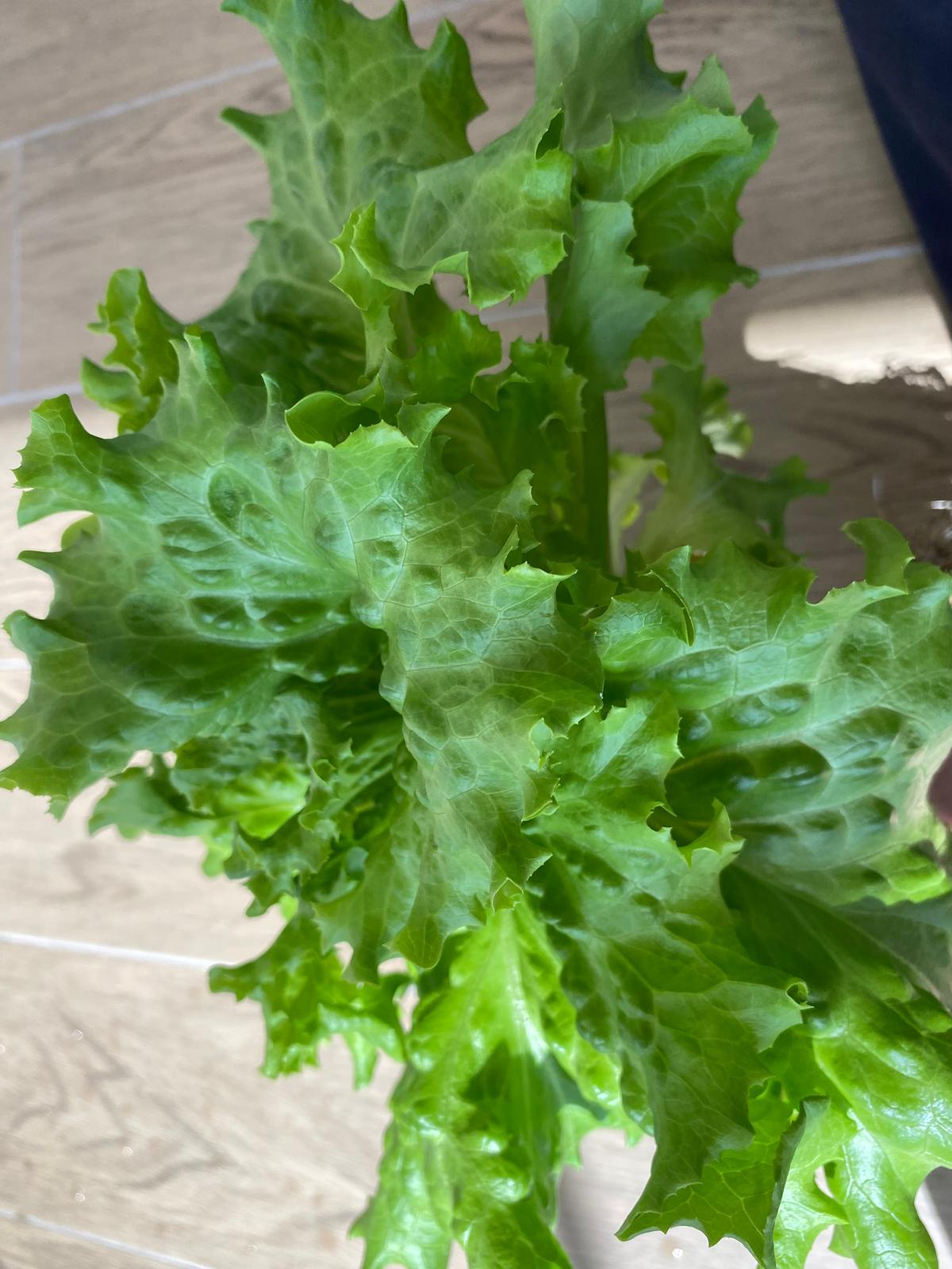Healthy: (0, 6, 952, 1269)
